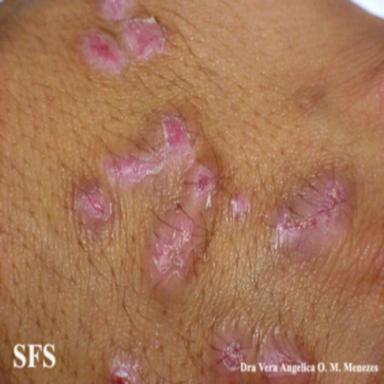Epidermolysis-Bullosa-Pruriginosa: (101, 113, 220, 300), (271, 166, 359, 261), (102, 2, 167, 59), (73, 177, 115, 234), (83, 32, 127, 74), (109, 353, 142, 382), (229, 192, 251, 221)
